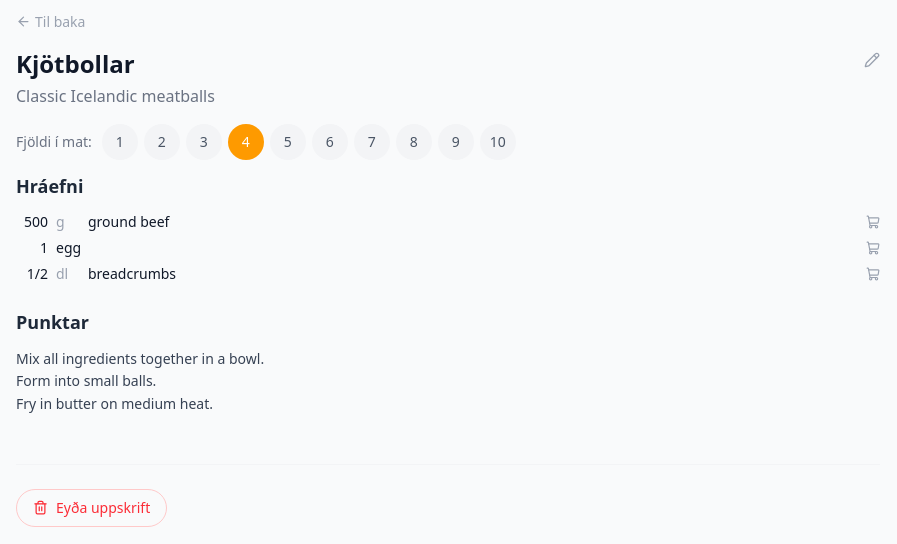
Recipe page › shows fractions for scaled fractional amounts
Expected: the heading "Kjötbollar" is shown, [16,46,135,80]
Step 1. Click the button "2" → [162, 142], box [144,124,180,160]
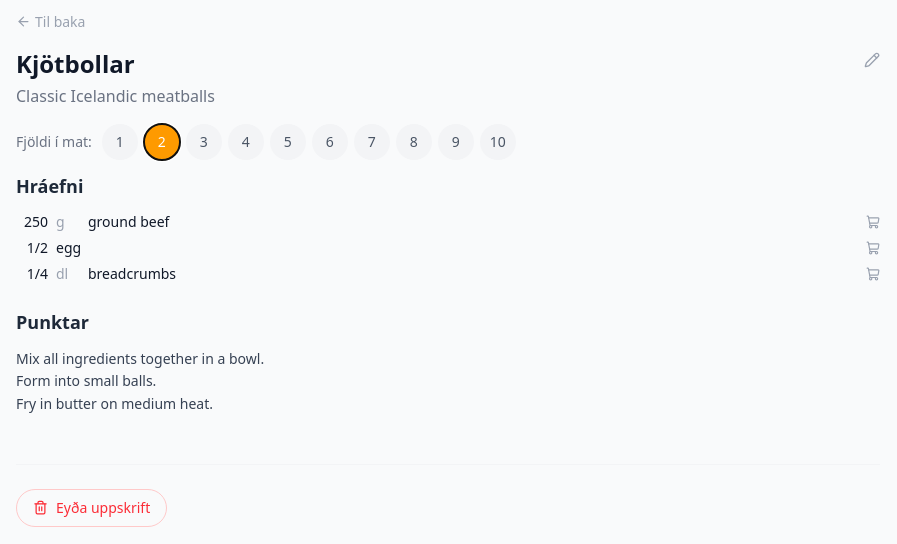
Result: the text "1/4" is shown at [27,264,48,282]
